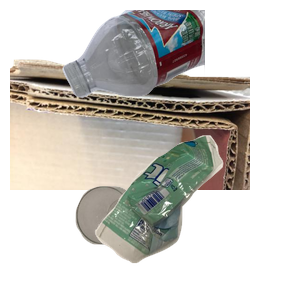cardboard: (10, 57, 250, 237)
glass: (73, 184, 214, 300)
plastic: (60, 10, 300, 100)
trash: (92, 133, 300, 300)
